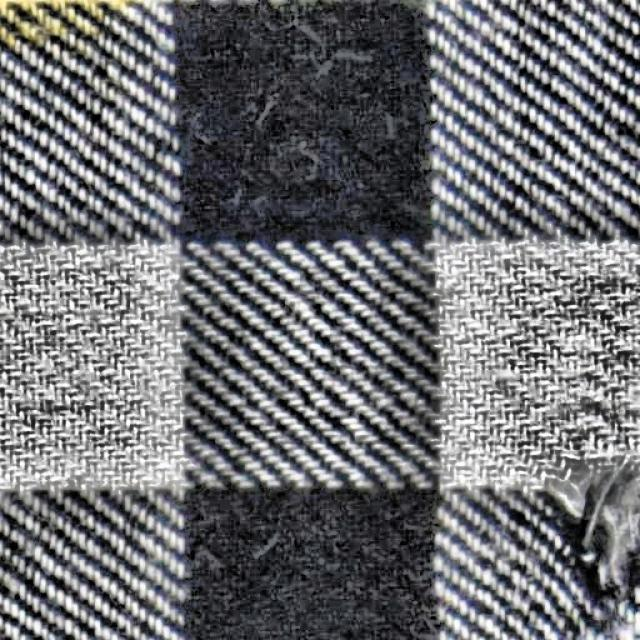Stitch: (522, 458, 638, 638)
